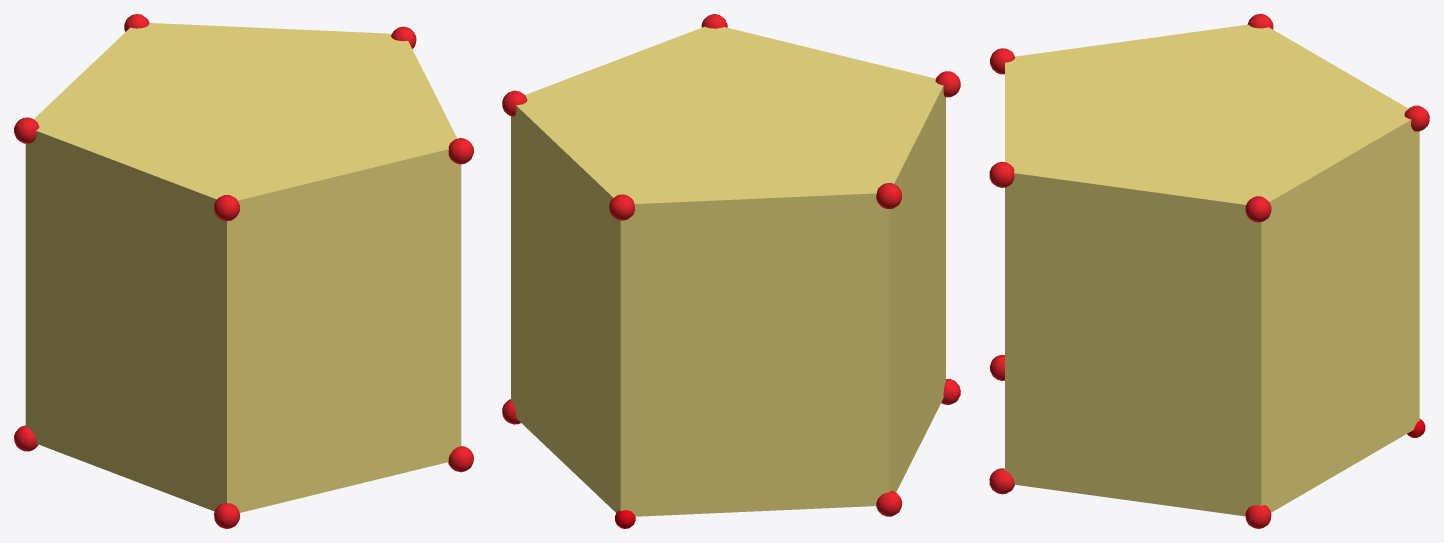
3 views of the same model, side by side, from view 1: azimuth 30°, elevation 25°; view 2: azimuth 150°, elevation 25°; view 3: azimuth 270°, elevation 25° (orthographic).
Visible parts, largest first — view 1: 五角柱, 頂點.009; view 2: 五角柱, 頂點.009; view 3: 五角柱, 頂點.009.
Boxes of the visible parts, x1,y1,x2,y2 form: 五角柱: [25, 23, 461, 512]; 頂點.009: [14, 14, 473, 528]; 五角柱: [511, 26, 945, 516]; 頂點.009: [502, 14, 960, 516]; 五角柱: [1005, 24, 1419, 516]; 頂點.009: [989, 14, 1429, 528].
Bounding box in the file's own units: 2 × 1.59 × 1.92.
